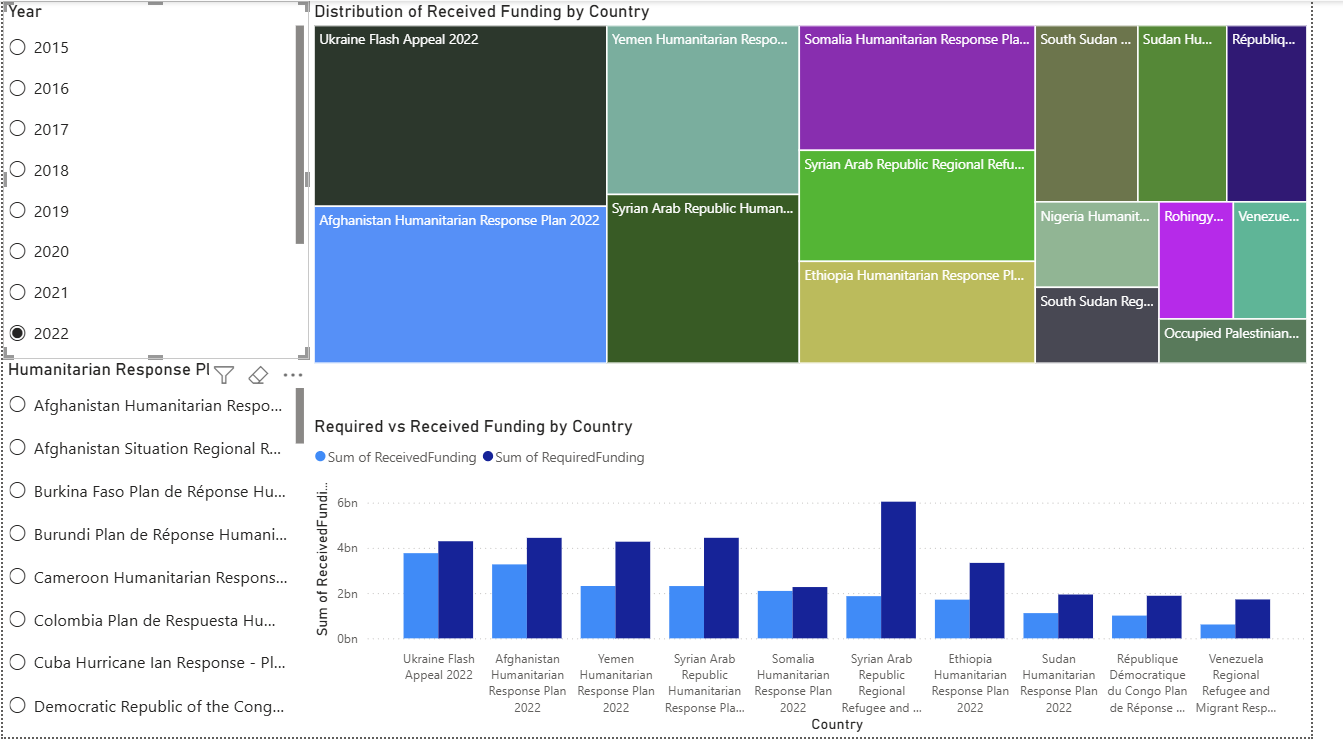

The dashboard page shown, as its layout file describes it:
{"tool":"powerbi","page":{"name":"Country Funding Analysis","canvas":[1280,720],"ordinal":1},"visuals":[{"type":"treemap","title":"Distribution of Received Funding by Country","fields":{"Group":["fts_requirements_funding_summary_country_year.Country"],"Values":["fts_requirements_funding_summary_country_year.Total Received Funding"]},"box":[299.6,61.1,980.7,344.8],"z":0},{"type":"clusteredColumnChart","title":"Required vs Received Funding by Country","fields":{"Category":["fts_requirements_funding_summary_country_year.Country"],"Y":["Sum(fts_requirements_funding_summary_country_year.ReceivedFunding)","Sum(fts_requirements_funding_summary_country_year.RequiredFunding)"]},"box":[299.1,406.2,981.1,314.2],"z":1000},{"type":"listSlicer","fields":{"Values":["fts_requirements_funding_summary_country_year.Country"]},"box":[0,406,299.6,314.3],"z":2000},{"type":"listSlicer","fields":{"Values":["fts_requirements_funding_summary_country_year.Year"]},"box":[0,61.1,299.6,344.8],"z":3000},{"type":"textbox","box":[0,0,1280.3,52.6],"z":4000}]}

Visuals, with their boxes on the page's 1280x720 design canvas (x1, y1, x2, y2). These are canvas units, not pixel positions in the 1343x745 screenshot, which may show the page scaled, cropped or inside an application window:
"Distribution of Received Funding by Country" treemap: crop(300, 61, 1280, 406)
"Required vs Received Funding by Country" clusteredColumnChart: crop(299, 406, 1280, 720)
listSlicer - fts_requirements_funding_summary_country_year.Country: crop(0, 406, 300, 720)
listSlicer - fts_requirements_funding_summary_country_year.Year: crop(0, 61, 300, 406)
textbox: crop(0, 0, 1280, 53)
